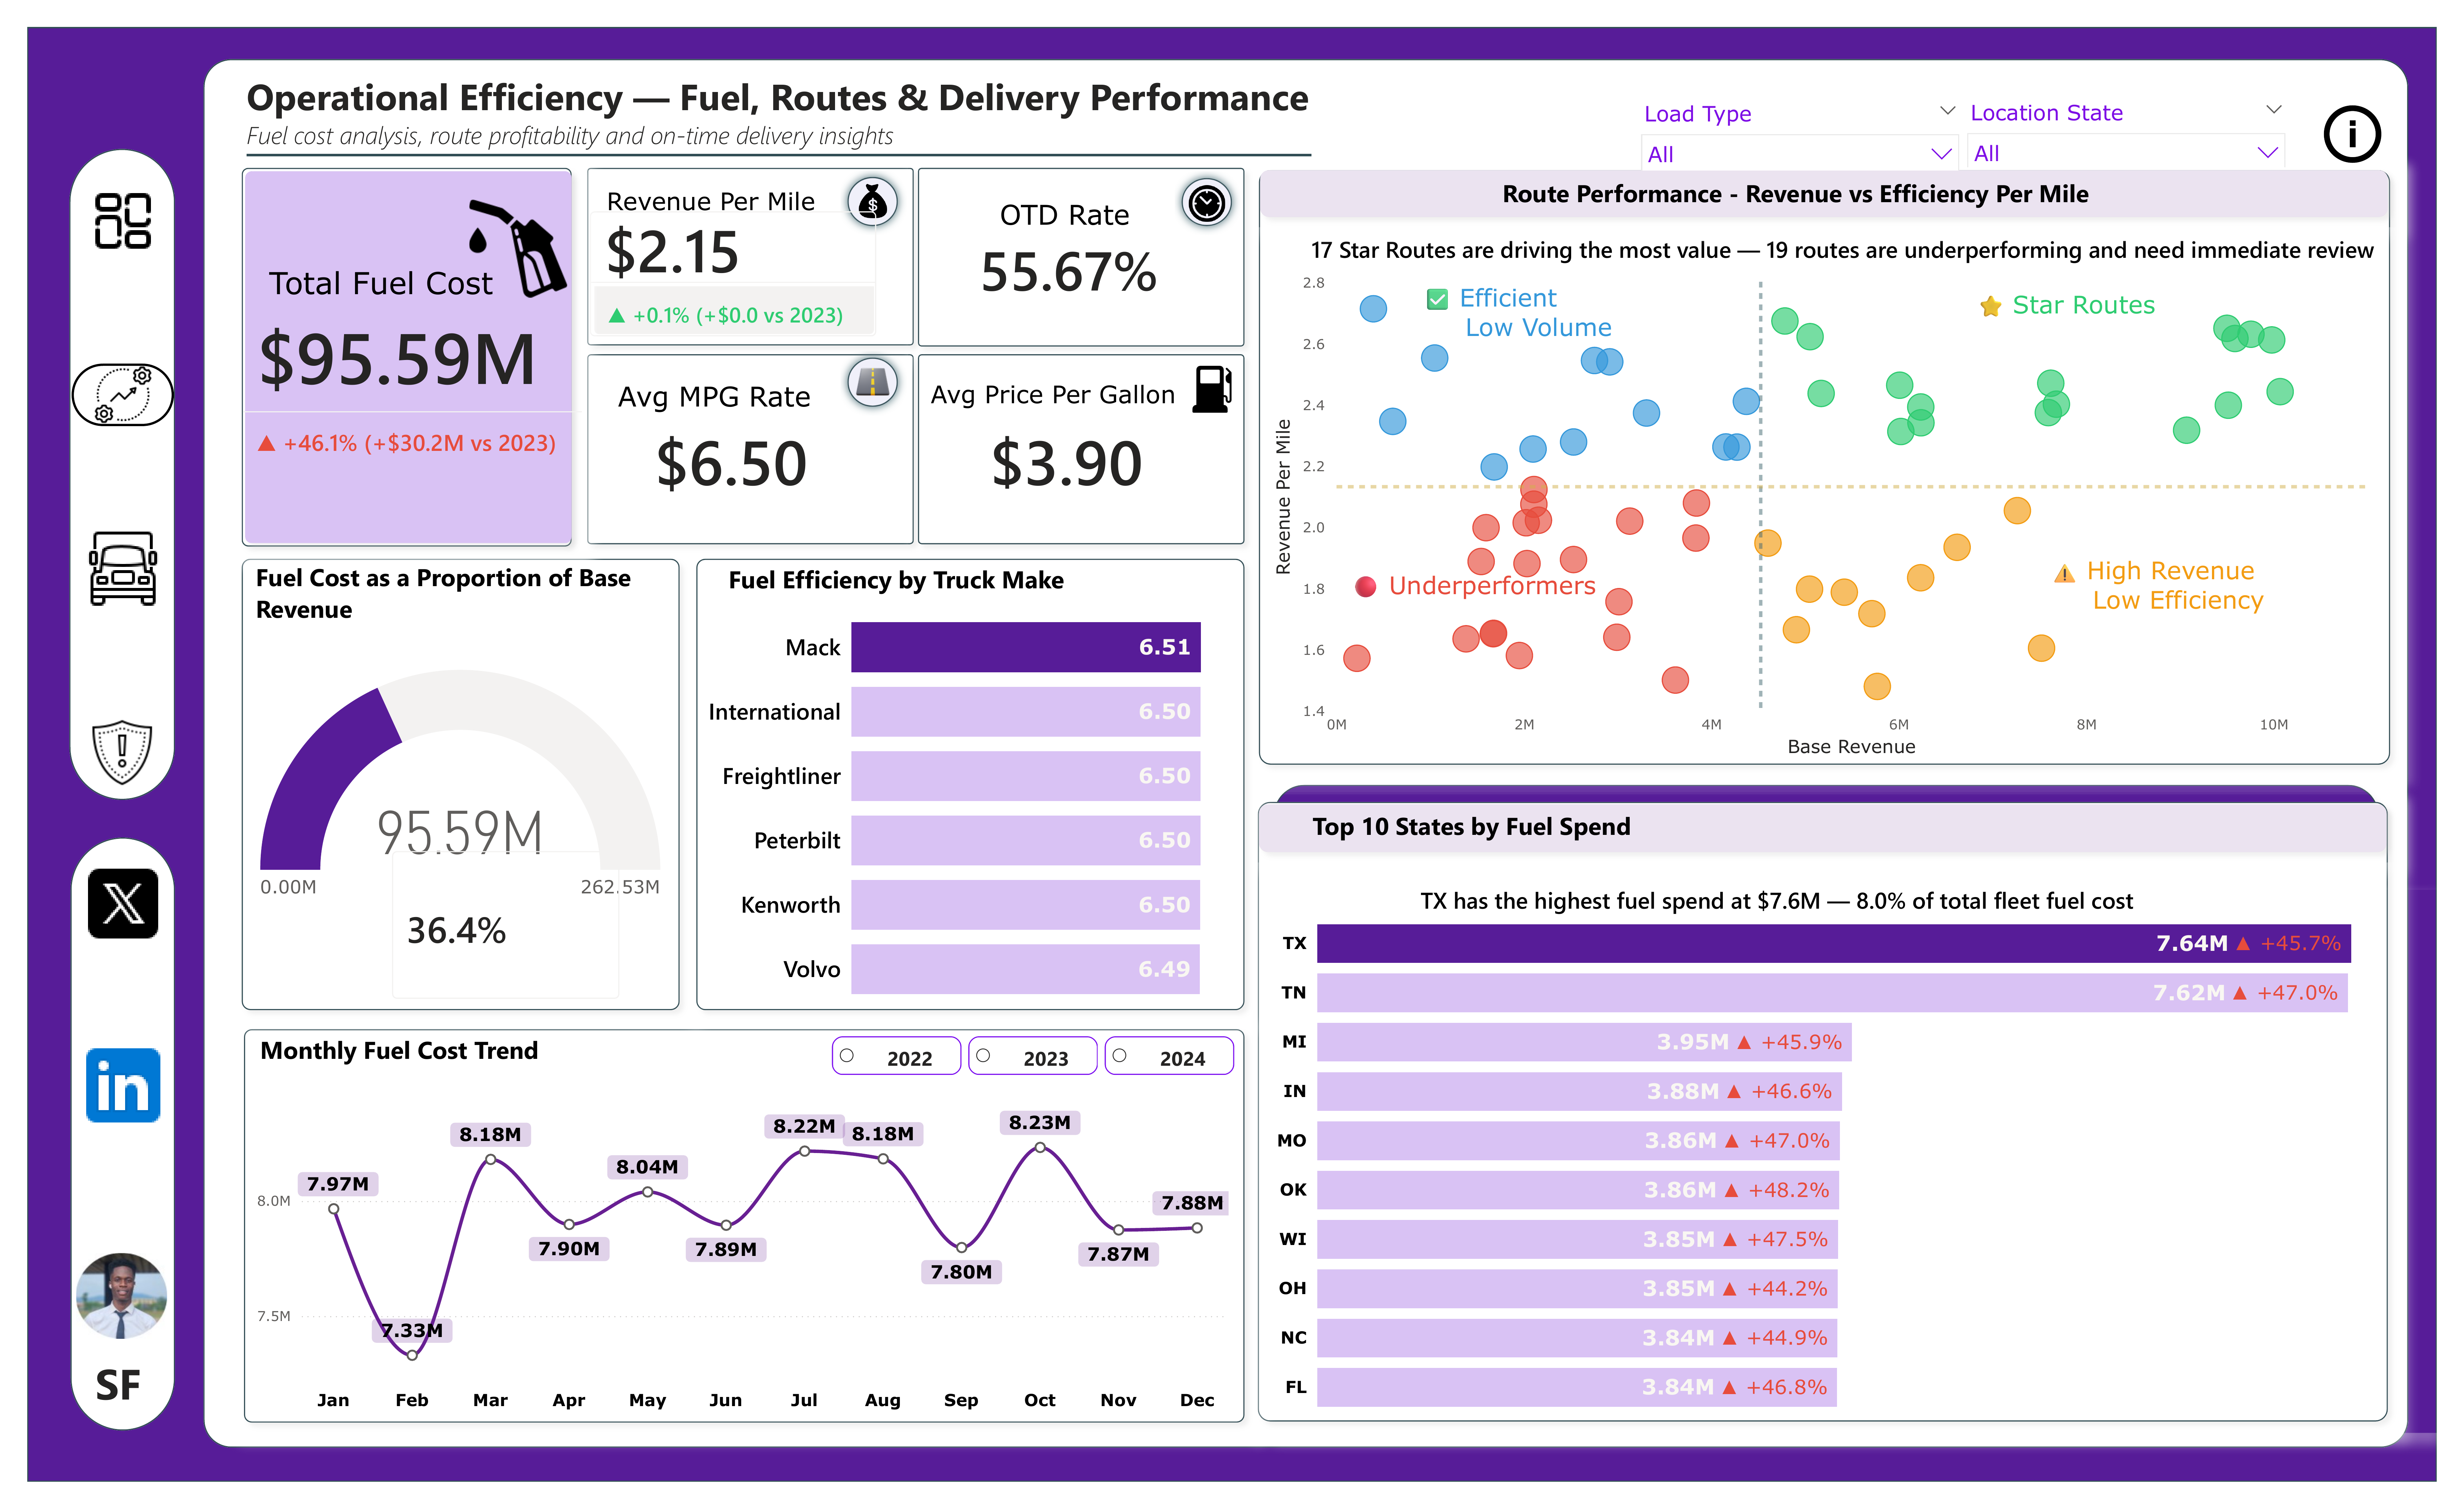

Layout of this report page (visuals, bound fields, positions):
{"tool":"powerbi","page":{"name":"Operational","canvas":[2120,1280],"ordinal":1},"visuals":[{"type":"shape","box":[0,0,2120,1280],"z":0},{"type":"shape","box":[155,27.5,1940,1222.5],"z":1000},{"type":"shape","box":[483.6,115.4,305,173.8],"z":2000},{"type":"shape","box":[483.6,278.9,305,185],"z":3000},{"type":"shape","box":[775,115.4,305,175],"z":4000},{"type":"shape","box":[775.2,278.9,305,185],"z":5000},{"type":"shape","box":[713.8,123.8,60,58.8],"z":6000},{"type":"image","box":[722.5,137.5,41.2,30],"z":7000},{"type":"shape","box":[1007.5,125,60,57.5],"z":8000},{"type":"shape","box":[36.7,106.7,93.3,573.3],"z":9000},{"type":"shape","box":[37.5,712.5,92.5,522.5],"z":10000},{"type":"shape","box":[1087.5,657.5,990,562.5],"z":11000},{"type":"shape","box":[1074.3,672.9,1011.4,562.9],"z":12000},{"type":"shape","box":[181.7,873.3,898.3,363.3],"z":13000},{"type":"shape","box":[180,459.3,402.5,415],"z":14000},{"type":"shape","box":[580,459.3,500,415],"z":15000},{"type":"clusteredBarChart","fields":{"Category":["fuel_purchases.location_state"],"Y":["Analysis.Total Fuel Cost"]},"box":[1092.9,758.6,1027.1,478.6],"z":16000},{"type":"gauge","fields":{"Y":["Analysis.Total Fuel Cost"],"MaxValue":["Analysis.Base Revenue"]},"box":[200,474,362,388],"z":17000},{"type":"lineChart","fields":{"Category":["Date Table.Month Name"],"Y":["Analysis.Total Fuel Cost"]},"box":[196.7,938.3,865,288.3],"z":18000},{"type":"clusteredBarChart","fields":{"Category":["trucks.make"],"Y":["Analysis.Avg. MPG"]},"box":[592.5,487.5,495,392.5],"z":19000},{"type":"shape","box":[1075,116.7,1013.3,541.7],"z":20000},{"type":"scatterChart","fields":{"Category":["routes.route_id"],"X":["Analysis.Base Revenue"],"Y":["Analysis.Revenue Per Mile"],"Series":["routes.Route Performance Category"]},"box":[1092.9,211.4,984.3,435.7],"z":21000},{"type":"cardVisual","fields":{"Data":["Analysis.Avg. MPG"]},"box":[522.5,332.5,196.2,93.8],"z":22000},{"type":"cardVisual","fields":{"Data":["Analysis.Avg. Price per Gallon"]},"box":[817.5,335,195,87.5],"z":23000},{"type":"cardVisual","fields":{"Data":["Analysis.Revenue Per Mile"]},"box":[477.5,145,286.2,143.8],"z":24000},{"type":"image","box":[1022,283,41,71],"z":25000},{"type":"cardVisual","fields":{"Data":["Analysis.Fuel as % Revenue"]},"box":[304,708,234,164],"z":26000},{"type":"shape","box":[180,115.5,308.2,350.9],"z":27000},{"type":"shape","box":[182.5,117.5,305,345],"z":28000},{"type":"cardVisual","fields":{"Data":["Analysis.Total Fuel Cost"]},"box":[172.5,217.5,332.5,240],"z":29000},{"type":"image","box":[388.8,95,86.2,198.8],"z":30000},{"type":"cardVisual","fields":{"Data":["Analysis.OTD Rate"]},"box":[809.1,151.1,259.1,119.3],"z":31000},{"type":"textbox","box":[851,145,128,45],"z":32000},{"type":"image","box":[1022.2,131.1,32.2,46.7],"z":33000},{"type":"textbox","box":[515,305,200,45],"z":34000},{"type":"shape","box":[714,283,60,59],"z":35000},{"type":"image","box":[727,290,34,43],"z":36000},{"type":"textbox","box":[790,305,249,45],"z":37000},{"type":"textbox","box":[505,135,208.8,45],"z":38000},{"type":"textbox","box":[207.5,202.5,225,45],"z":39000},{"type":"textbox","box":[1775,460,212.5,67.5],"z":40000},{"type":"textbox","box":[1710,225.7,201.4,57.1],"z":41000},{"type":"textbox","box":[1222.9,220,187.1,85.7],"z":42000},{"type":"textbox","box":[1160,472.5,257.5,55],"z":43000},{"type":"cardVisual","fields":{"Data":["Analysis.Scatter Insight Text"]},"box":[1101.4,161.4,1010,64.3],"z":44000},{"type":"textbox","box":[612,466,326,62],"z":45000},{"type":"textbox","box":[196,464,366,72],"z":46000},{"type":"textbox","box":[200,880,326,62],"z":47000},{"type":"advancedSlicerVisual","fields":{"Values":["Date Table.Years"]},"box":[703.3,883.3,365,43.3],"z":48000},{"type":"cardVisual","fields":{"Data":["Callout Measures.Fuel State Insight"]},"box":[1197.1,732.9,687.1,65.7],"z":49000},{"type":"image","box":[43.3,1030,80,173.3],"z":50000},{"type":"slicer","fields":{"Values":["safety_incidents.location_state"]},"box":[1696.7,58.3,300,65],"z":51000},{"type":"textbox","box":[55.3,1162.7,68,64.7],"z":52000},{"type":"textbox","box":[187.5,32.5,1010,67.5],"z":53000},{"type":"shape","box":[1076.4,117.3,1010,59.1],"z":54000},{"type":"textbox","box":[1292.7,126.4,535.5,40],"z":55000},{"type":"shape","box":[1075,675,1010,60],"z":56000},{"type":"textbox","box":[1125.7,682.9,325.7,50],"z":57000},{"type":"image","box":[30.3,137.5,107.5,65],"z":58000},{"type":"textbox","box":[187.5,75,742.5,45],"z":59000},{"type":"image","box":[45.3,602.5,77.5,72.5],"z":60000},{"type":"shape","box":[192.5,70,937.5,85],"z":61000},{"type":"image","box":[47.8,444.2,72.5,65],"z":62000},{"type":"image","box":[39.1,295.8,90,55],"z":63000},{"type":"slicer","fields":{"Values":["loads.load_type"]},"box":[1410,58.6,300,67.1],"z":64000},{"type":"image","box":[7.5,887.5,152.5,87.5],"z":65000},{"type":"image","box":[38.8,735,90,72.5],"z":66000},{"type":"actionButton","box":[2015,62.5,75,62.5],"z":67000}]}

Visuals, with their boxes on the page's 2120x1280 design canvas (x1, y1, x2, y2). These are canvas units, not pixel positions in the 2464x1509 screenshot, which may show the page scaled, cropped or inside an application window:
shape: [left=0, top=0, right=2120, bottom=1280]
shape: [left=155, top=28, right=2095, bottom=1250]
shape: [left=484, top=115, right=789, bottom=289]
shape: [left=484, top=279, right=789, bottom=464]
shape: [left=775, top=115, right=1080, bottom=290]
shape: [left=775, top=279, right=1080, bottom=464]
shape: [left=714, top=124, right=774, bottom=183]
image: [left=722, top=138, right=764, bottom=168]
shape: [left=1008, top=125, right=1068, bottom=182]
shape: [left=37, top=107, right=130, bottom=680]
shape: [left=38, top=712, right=130, bottom=1235]
shape: [left=1088, top=658, right=2078, bottom=1220]
shape: [left=1074, top=673, right=2086, bottom=1236]
shape: [left=182, top=873, right=1080, bottom=1237]
shape: [left=180, top=459, right=582, bottom=874]
shape: [left=580, top=459, right=1080, bottom=874]
clusteredBarChart - fuel_purchases.location_state x Analysis.Total Fuel Cost: [left=1093, top=759, right=2120, bottom=1237]
gauge - Analysis.Total Fuel Cost x Analysis.Base Revenue: [left=200, top=474, right=562, bottom=862]
lineChart - Date Table.Month Name x Analysis.Total Fuel Cost: [left=197, top=938, right=1062, bottom=1227]
clusteredBarChart - trucks.make x Analysis.Avg. MPG: [left=592, top=488, right=1088, bottom=880]
shape: [left=1075, top=117, right=2088, bottom=658]
scatterChart - routes.route_id x Analysis.Base Revenue: [left=1093, top=211, right=2077, bottom=647]
cardVisual - Analysis.Avg. MPG: [left=522, top=332, right=719, bottom=426]
cardVisual - Analysis.Avg. Price per Gallon: [left=818, top=335, right=1012, bottom=422]
cardVisual - Analysis.Revenue Per Mile: [left=478, top=145, right=764, bottom=289]
image: [left=1022, top=283, right=1063, bottom=354]
cardVisual - Analysis.Fuel as % Revenue: [left=304, top=708, right=538, bottom=872]
shape: [left=180, top=116, right=488, bottom=466]
shape: [left=182, top=118, right=488, bottom=462]
cardVisual - Analysis.Total Fuel Cost: [left=172, top=218, right=505, bottom=458]
image: [left=389, top=95, right=475, bottom=294]
cardVisual - Analysis.OTD Rate: [left=809, top=151, right=1068, bottom=270]
textbox: [left=851, top=145, right=979, bottom=190]
image: [left=1022, top=131, right=1054, bottom=178]
textbox: [left=515, top=305, right=715, bottom=350]
shape: [left=714, top=283, right=774, bottom=342]
image: [left=727, top=290, right=761, bottom=333]
textbox: [left=790, top=305, right=1039, bottom=350]
textbox: [left=505, top=135, right=714, bottom=180]
textbox: [left=208, top=202, right=432, bottom=248]
textbox: [left=1775, top=460, right=1988, bottom=528]
textbox: [left=1710, top=226, right=1911, bottom=283]
textbox: [left=1223, top=220, right=1410, bottom=306]
textbox: [left=1160, top=472, right=1418, bottom=528]
cardVisual - Analysis.Scatter Insight Text: [left=1101, top=161, right=2111, bottom=226]
textbox: [left=612, top=466, right=938, bottom=528]
textbox: [left=196, top=464, right=562, bottom=536]
textbox: [left=200, top=880, right=526, bottom=942]
advancedSlicerVisual - Date Table.Years: [left=703, top=883, right=1068, bottom=927]
cardVisual - Callout Measures.Fuel State Insight: [left=1197, top=733, right=1884, bottom=799]
image: [left=43, top=1030, right=123, bottom=1203]
slicer - safety_incidents.location_state: [left=1697, top=58, right=1997, bottom=123]
textbox: [left=55, top=1163, right=123, bottom=1227]
textbox: [left=188, top=32, right=1198, bottom=100]
shape: [left=1076, top=117, right=2086, bottom=176]
textbox: [left=1293, top=126, right=1828, bottom=166]
shape: [left=1075, top=675, right=2085, bottom=735]
textbox: [left=1126, top=683, right=1451, bottom=733]
image: [left=30, top=138, right=138, bottom=202]
textbox: [left=188, top=75, right=930, bottom=120]
image: [left=45, top=602, right=123, bottom=675]
shape: [left=192, top=70, right=1130, bottom=155]
image: [left=48, top=444, right=120, bottom=509]
image: [left=39, top=296, right=129, bottom=351]
slicer - loads.load_type: [left=1410, top=59, right=1710, bottom=126]
image: [left=8, top=888, right=160, bottom=975]
image: [left=39, top=735, right=129, bottom=808]
actionButton: [left=2015, top=62, right=2090, bottom=125]
